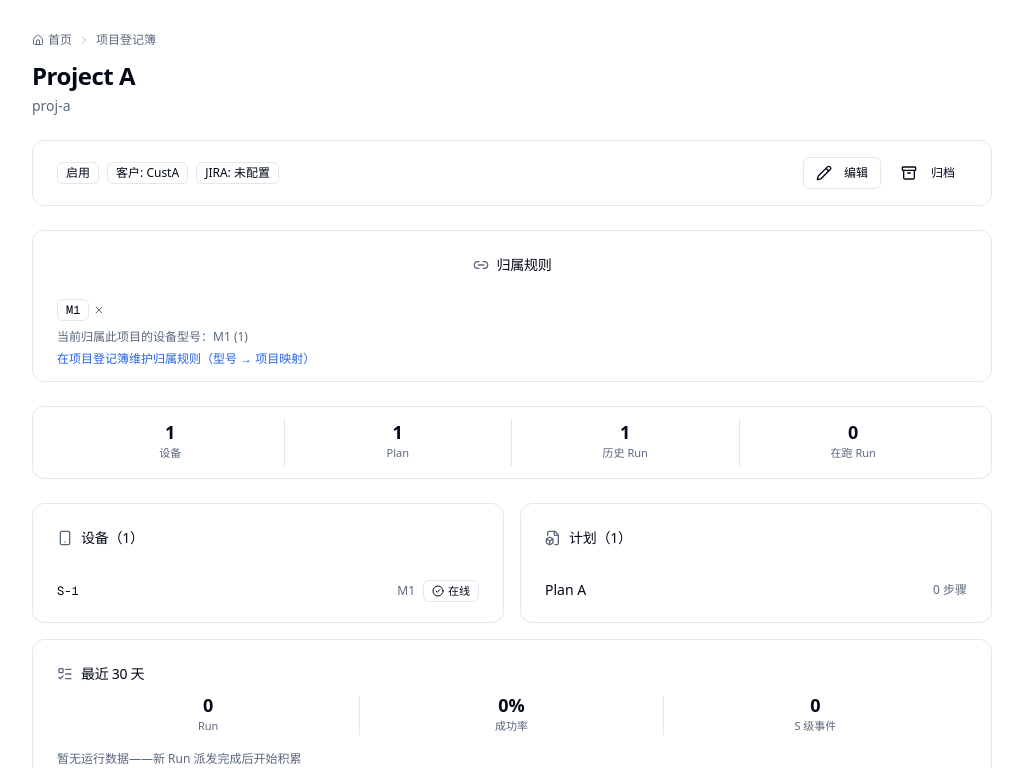
Test: ProjectDetailPage › #958: models list refreshes immediately after rule removal
Expected: the text "当前归属此项目的设备型号：M1 (1)" is shown, [57,328,248,345]
Click the button named "移除规则 M1" at [99, 310], box [93,304,105,316]
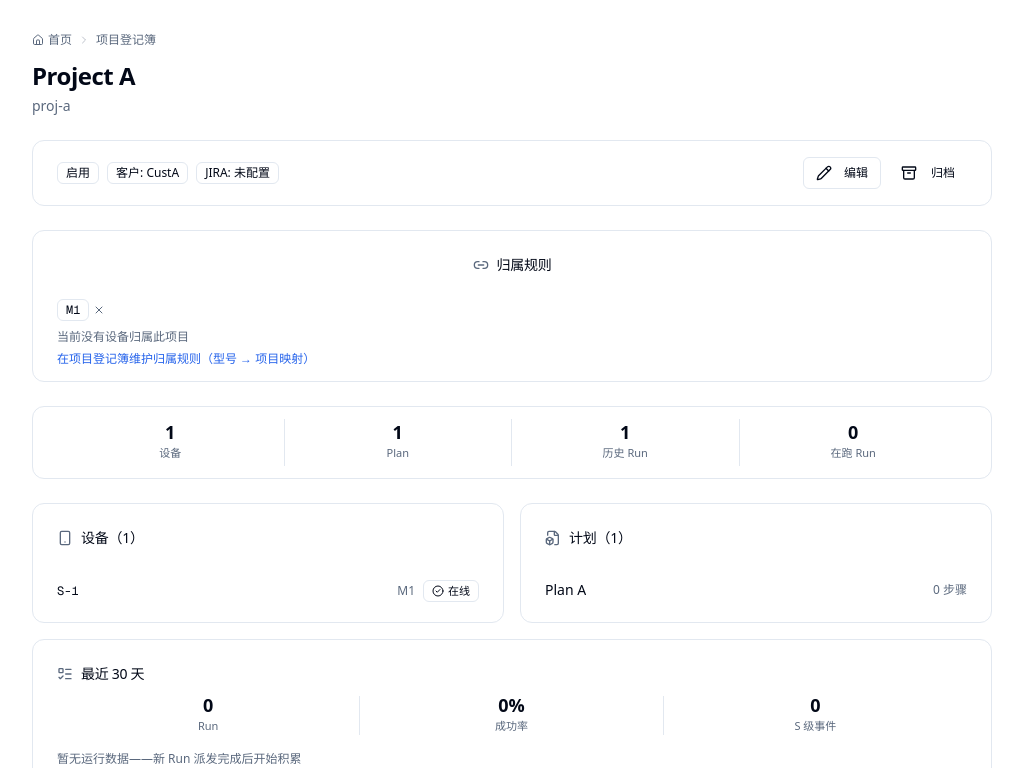
Now the text "当前归属此项目的设备型号：M1 (1)" is gone
